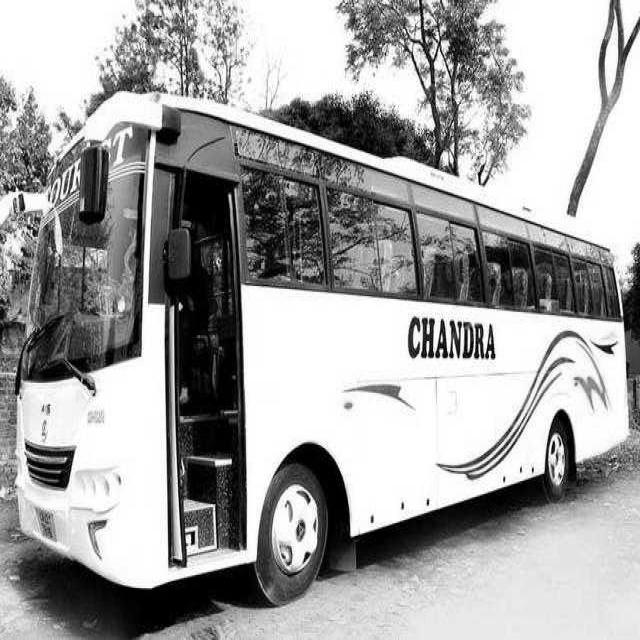Bus: (15, 92, 627, 602)
